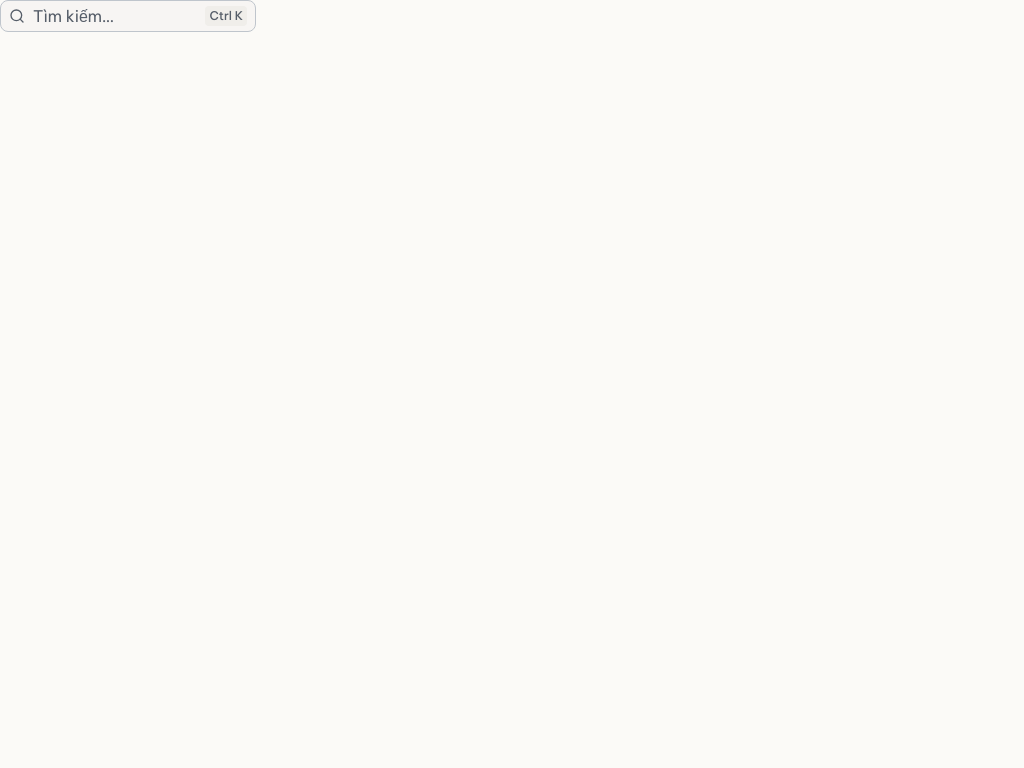
StaffCommandDialog content › finds Vietnamese items with and without diacritics, and English terms from the other locale
Press k
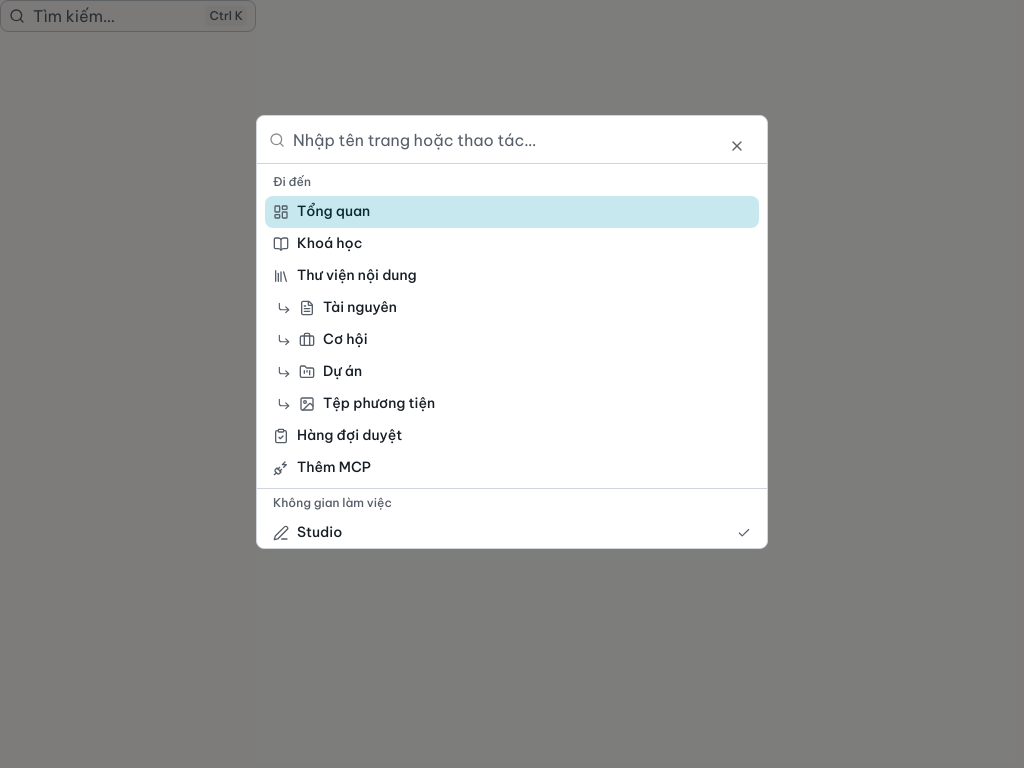
Type "duyet" into the dropdown at (506, 140), box x1=293 y1=116 x2=719 y2=164
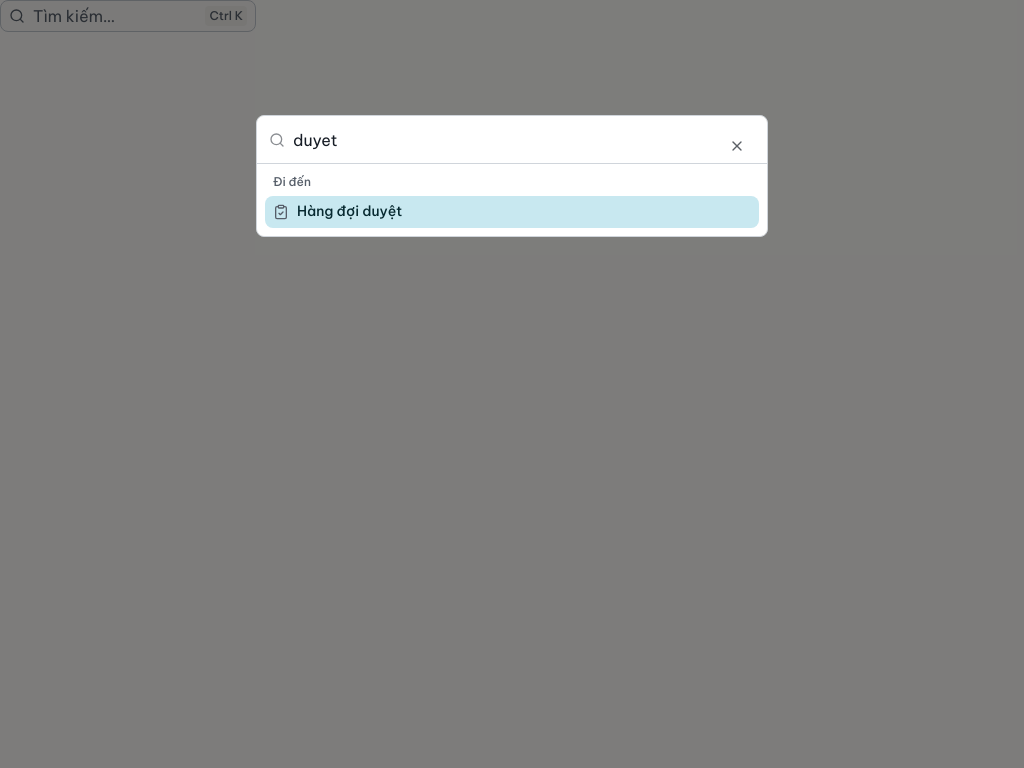
Result: the option "Hàng đợi duyệt" is shown at x1=265 y1=196 x2=759 y2=228
Result: the option "Khoá học" is gone
Replace the text in the dropdown with "duyệt" at (506, 140), box x1=293 y1=116 x2=719 y2=164
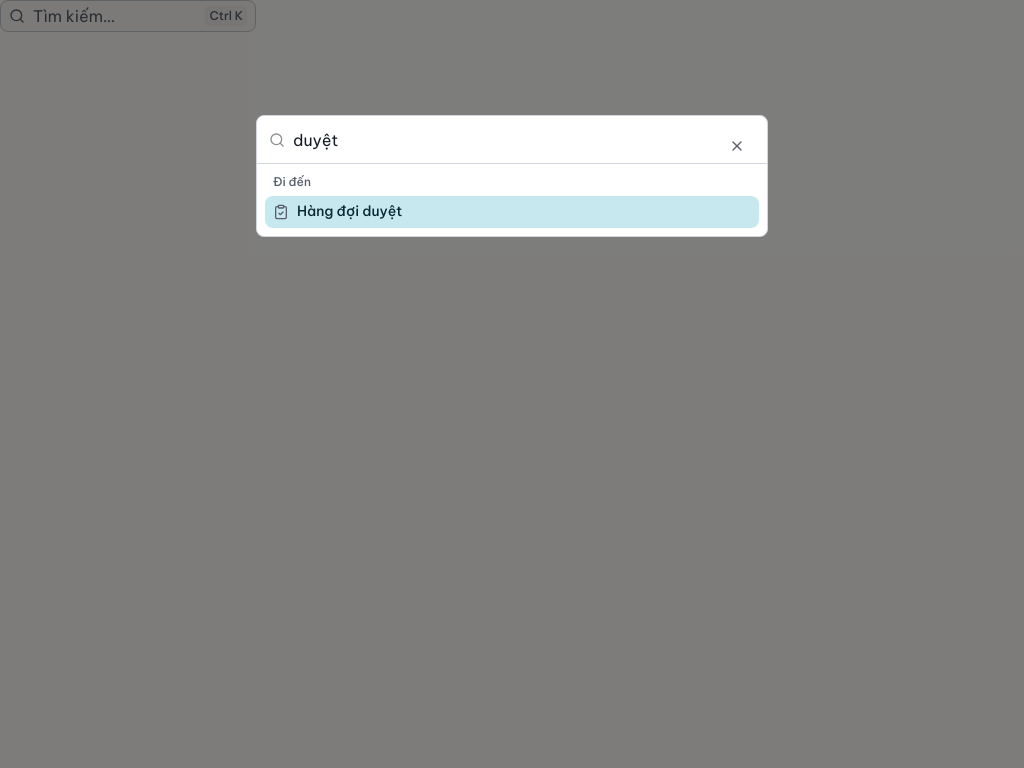
Result: the option "Hàng đợi duyệt" is shown at x1=265 y1=196 x2=759 y2=228
Replace the text in the dropdown with "courses" at (506, 140), box x1=293 y1=116 x2=719 y2=164
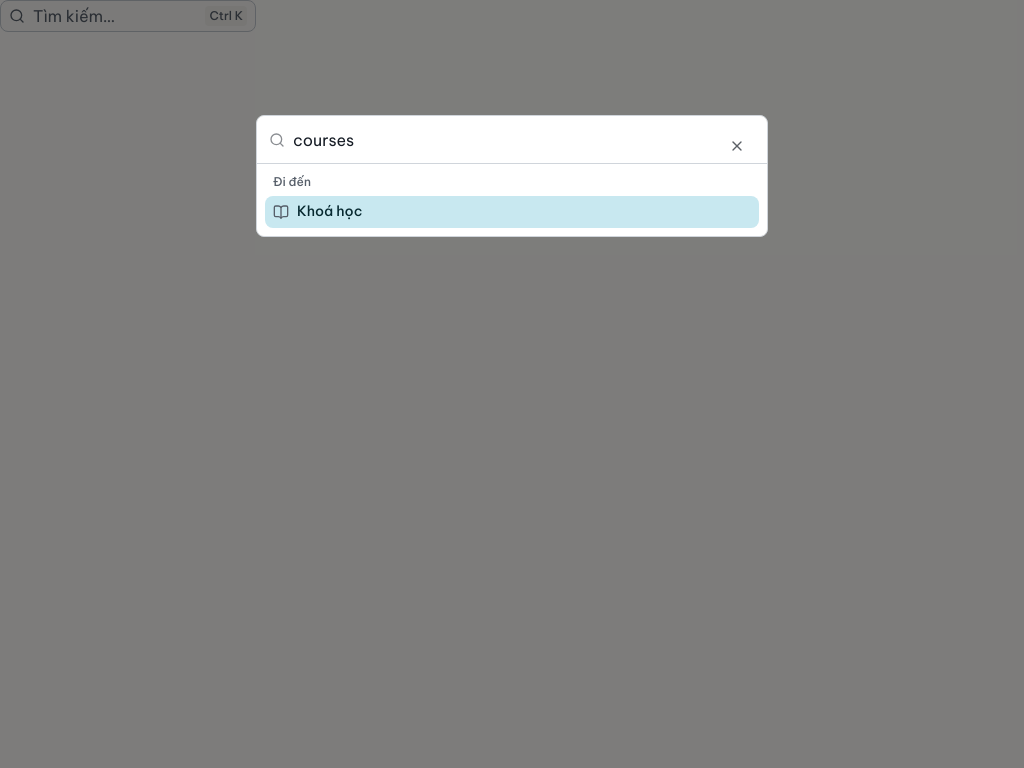
Result: the option "Khoá học" is shown at x1=265 y1=196 x2=759 y2=228
Result: the option "Hàng đợi duyệt" is gone
Replace the text in the dropdown with "giao dien toi" at (506, 140), box x1=293 y1=116 x2=719 y2=164
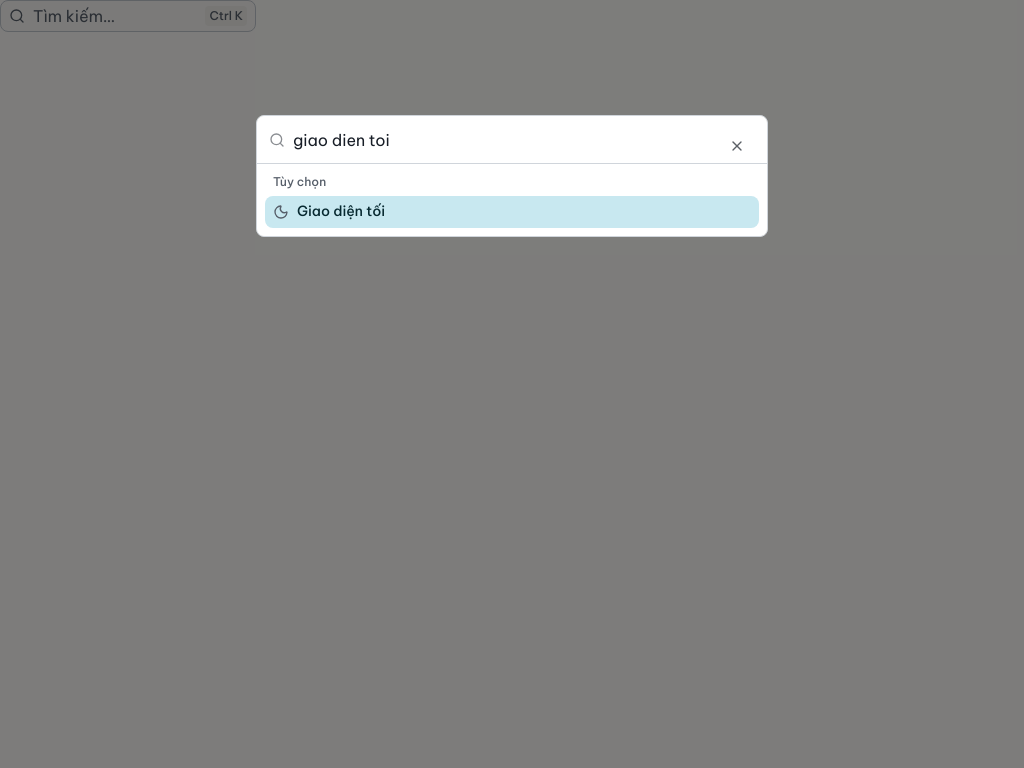
Result: the option "Giao diện tối" is shown at x1=265 y1=196 x2=759 y2=228
Replace the text in the dropdown with "zzzz" at (506, 140), box x1=293 y1=116 x2=719 y2=164
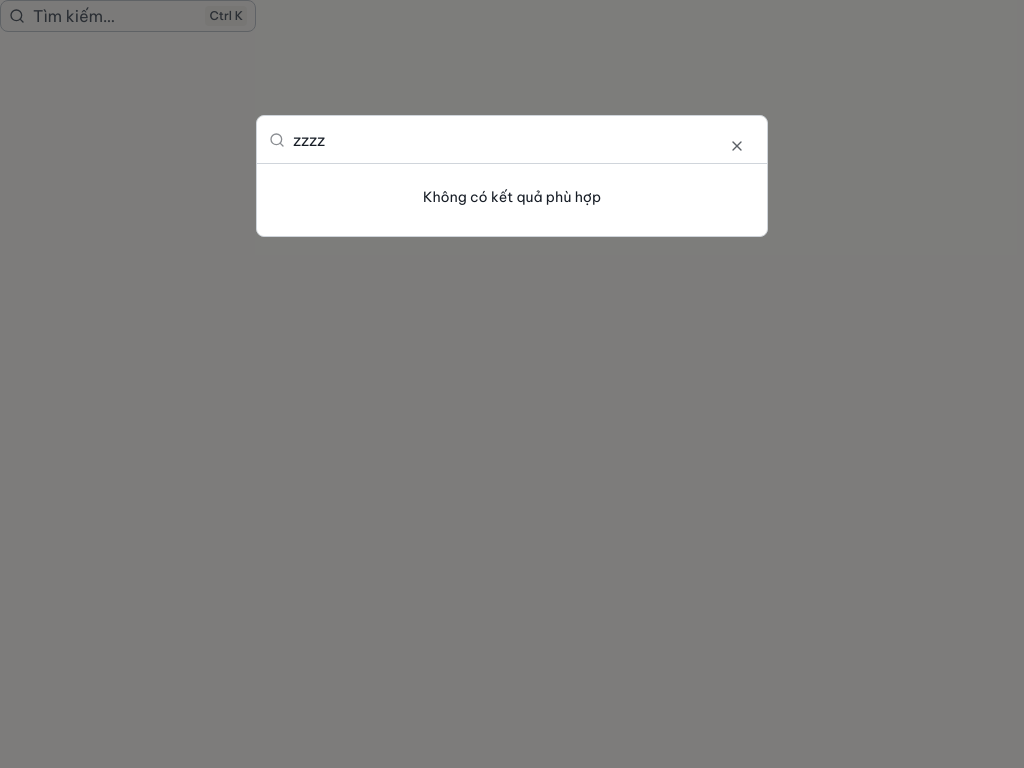
Result: the text "Không có kết quả phù hợp" is shown at x1=423 y1=188 x2=601 y2=206
